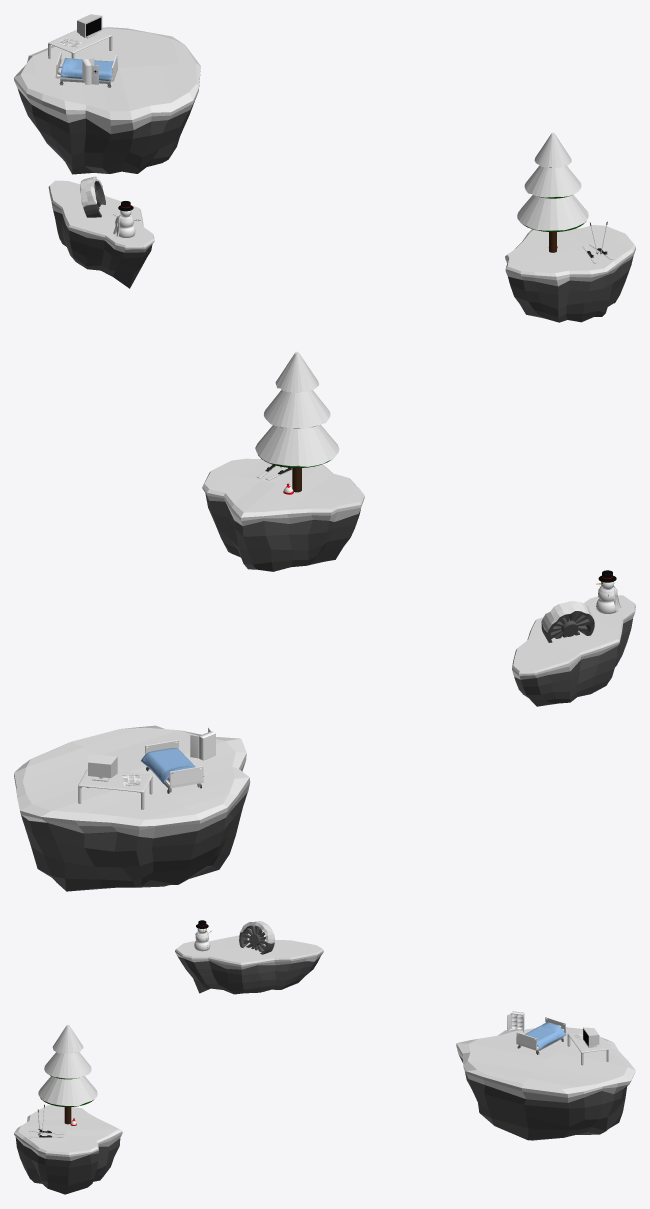
File: snow.fbx
3 renders of one model, top to bottom at view 1: azimuth 30°, elevation 25°; view 2: azimuth 150°, elevation 25°; view 3: azimuth 270°, elevation 25°, orthographic. The views are drawn at different scales.
Visible parts, largest first — view 1: Island-Hospital, Island-Skiequipment, Island-Snowman, Baum, Eisenbahnrad, Tisch, Blanket, Monitor, Sphere; view 2: Island-Hospital, Island-Skiequipment, Island-Snowman, Baum, Eisenbahnrad, Blanket, Tisch, Hospital_Bed_Base; view 3: Island-Hospital, Island-Skiequipment, Island-Snowman, Baum, Eisenbahnrad, Blanket, Tisch, Hospital_Bed_Base.
Part boxes in pixels (<box>): Island-Hospital: <box>14,27,200,174</box>; Island-Skiequipment: <box>505,225,635,322</box>; Island-Snowman: <box>48,180,154,288</box>; Baum: <box>517,132,588,252</box>; Eisenbahnrad: <box>80,176,105,217</box>; Tisch: <box>48,30,112,58</box>; Blanket: <box>60,58,113,81</box>; Monitor: <box>77,14,102,37</box>; Sphere: <box>113,201,140,237</box>; Island-Hospital: <box>14,725,250,891</box>; Island-Skiequipment: <box>202,458,364,571</box>; Island-Snowman: <box>512,595,635,706</box>; Baum: <box>255,351,339,492</box>; Eisenbahnrad: <box>541,601,594,642</box>; Blanket: <box>141,748,203,783</box>; Tisch: <box>78,769,152,809</box>; Hospital_Bed_Base: <box>145,740,203,792</box>; Island-Hospital: <box>456,1027,635,1140</box>; Island-Skiequipment: <box>14,1105,122,1194</box>; Island-Snowman: <box>175,935,323,994</box>; Baum: <box>38,1025,97,1124</box>; Eisenbahnrad: <box>239,921,274,954</box>; Blanket: <box>524,1022,565,1049</box>; Tisch: <box>567,1031,608,1065</box>; Hospital_Bed_Base: <box>516,1017,566,1053</box>.
Size of the model in its own units: 2409 by 1051 by 3446.
33 materials, 2 textured.
